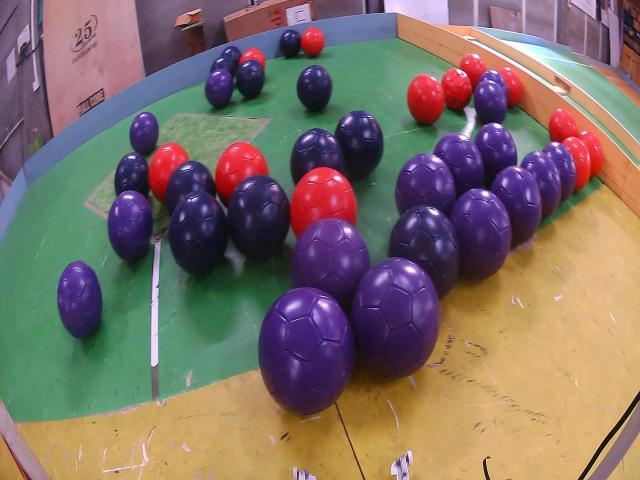jambhalya: (259, 287, 355, 414), (351, 257, 440, 378), (291, 218, 370, 313), (450, 188, 511, 282), (491, 165, 542, 246), (395, 153, 456, 215), (58, 260, 102, 338), (434, 132, 484, 197), (108, 190, 152, 262), (475, 123, 518, 187), (521, 152, 561, 218), (542, 142, 576, 201), (474, 80, 508, 123), (130, 112, 159, 155), (205, 68, 234, 108), (479, 70, 509, 100)
kaalyya: (389, 205, 460, 298), (228, 175, 290, 258), (169, 192, 229, 275), (335, 110, 384, 180), (290, 128, 346, 185), (166, 160, 216, 215), (296, 65, 332, 112), (114, 152, 150, 197), (236, 60, 265, 98), (280, 30, 301, 58), (210, 55, 236, 77), (222, 45, 241, 68)
